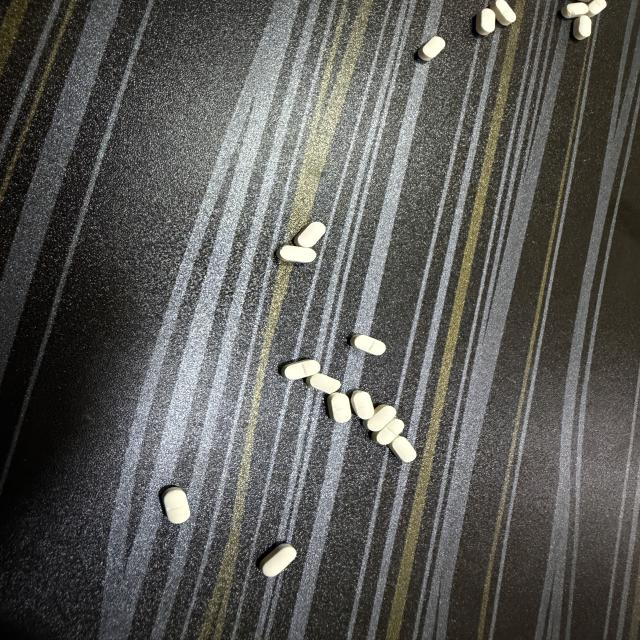pill: (261, 544, 296, 577), (162, 487, 190, 523), (364, 405, 396, 431), (281, 359, 320, 380), (373, 419, 404, 445), (294, 222, 326, 247), (351, 334, 386, 355), (388, 436, 416, 462), (327, 393, 351, 423), (306, 373, 341, 393), (490, 0, 516, 26), (351, 390, 374, 419), (277, 245, 316, 262), (418, 36, 445, 60), (476, 9, 495, 35), (573, 16, 591, 40), (562, 2, 588, 18), (586, 0, 606, 17)
